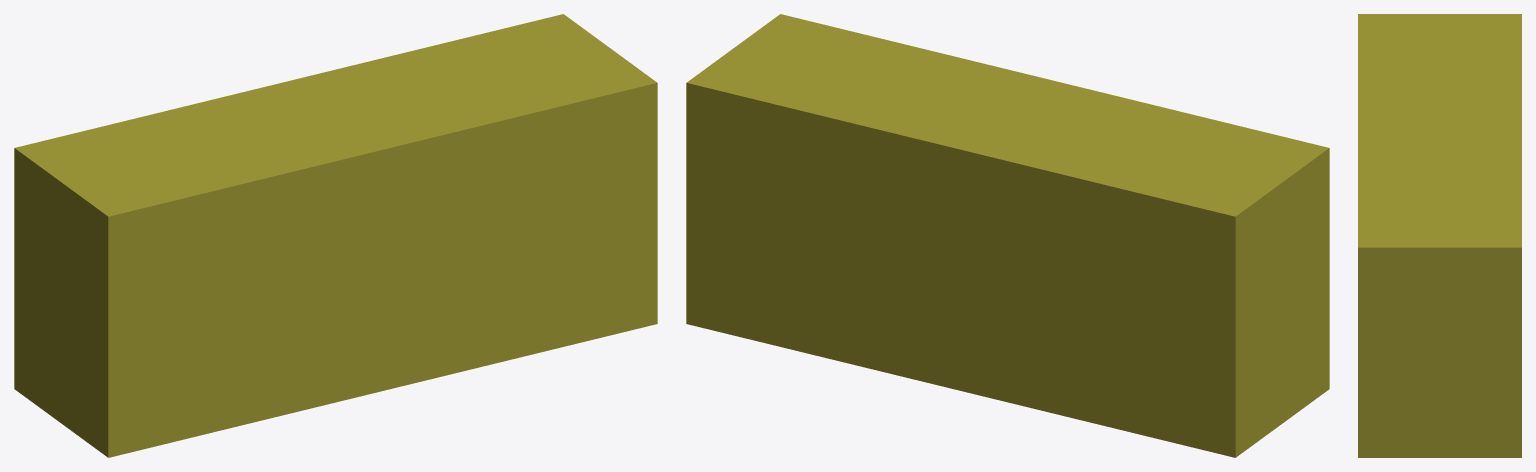
Rendered from Model_Kartonik_2.fbx.
The picture shows the model from 3 angles, left to right: view 1: azimuth 30°, elevation 25°; view 2: azimuth 150°, elevation 25°; view 3: azimuth 270°, elevation 25°; orthographic projection. The views are drawn at different scales.
Visible parts, largest first — view 1: Mesh_Kartonik_2; view 2: Mesh_Kartonik_2; view 3: Mesh_Kartonik_2.
Part boxes in pixels (bbox=[...]): Mesh_Kartonik_2: bbox=[14, 14, 657, 457]; Mesh_Kartonik_2: bbox=[686, 14, 1329, 457]; Mesh_Kartonik_2: bbox=[1358, 14, 1521, 457].
Size of the model in its own units: 3.79 by 5.37 by 12.78.
